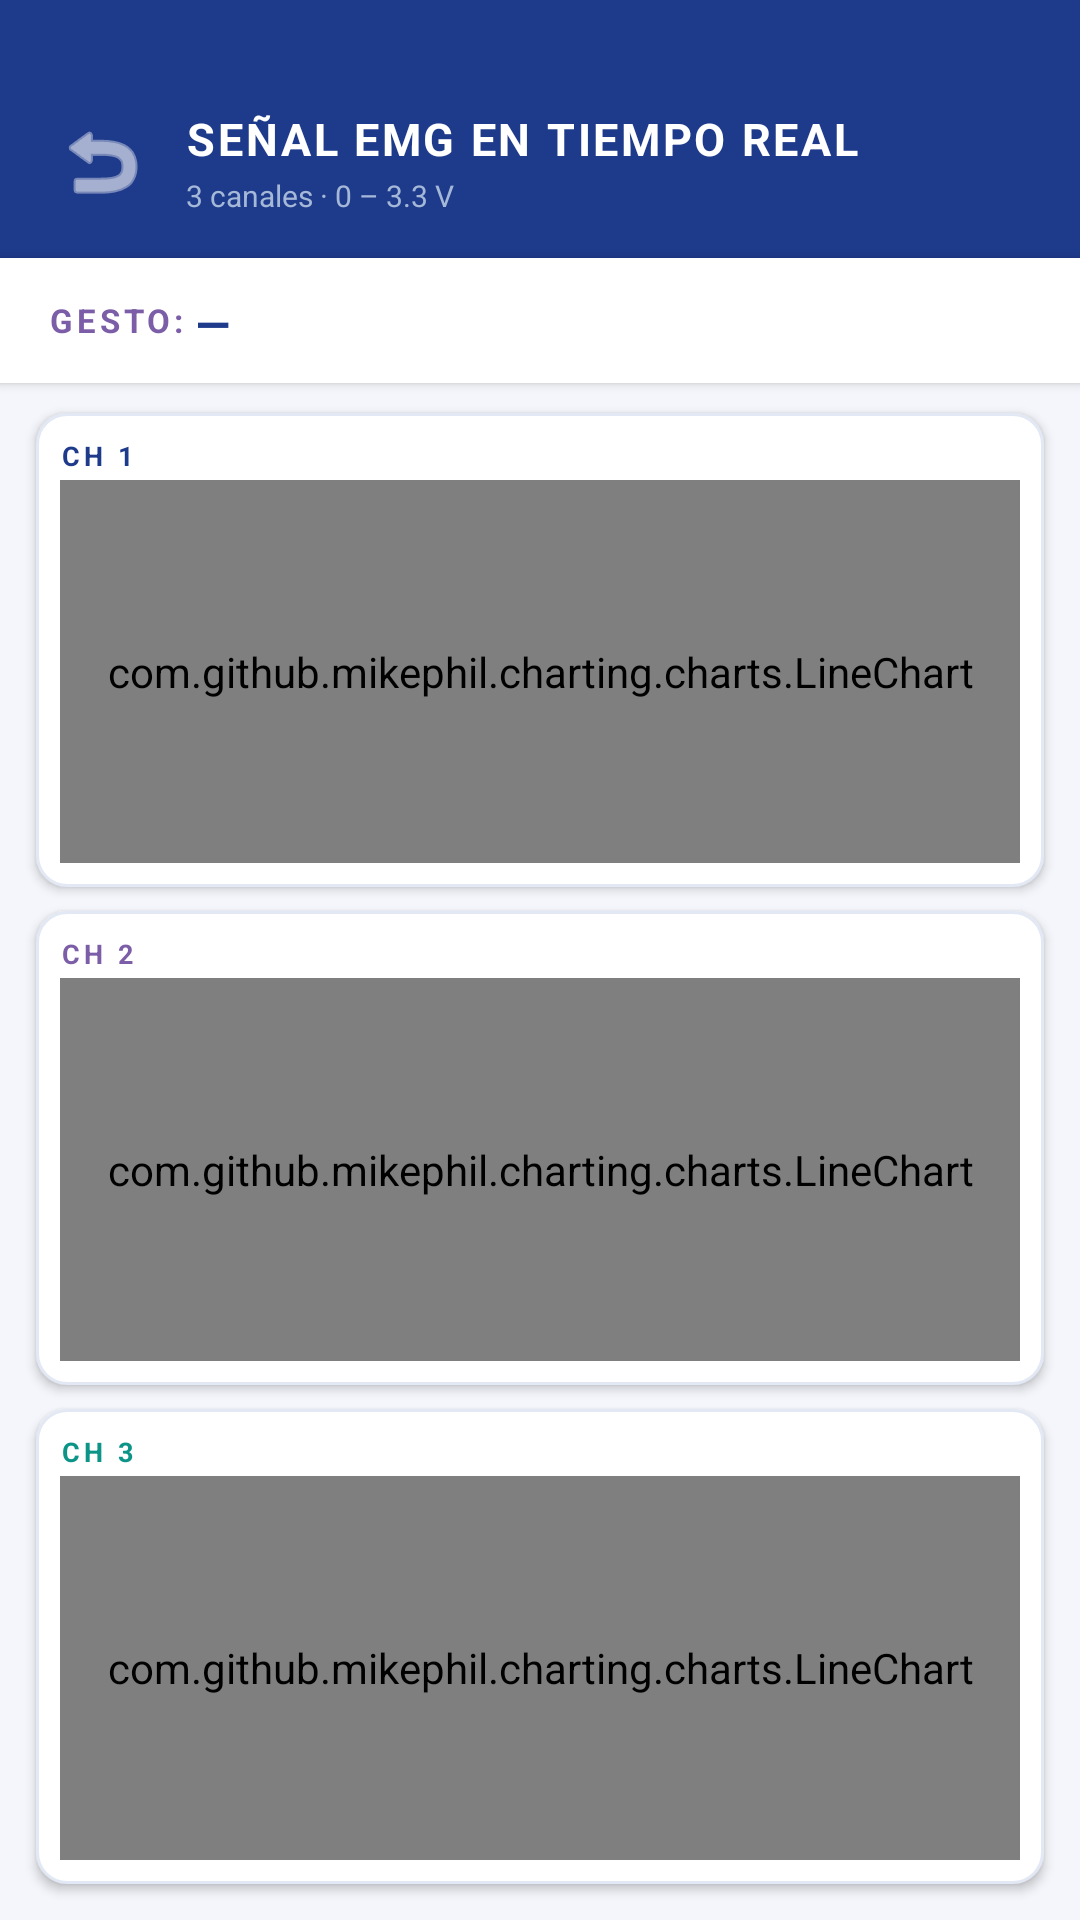

Where to tap for icons on this 1080x1920 app screen, as (x=x, y=y):
Volver: (x=103, y=162)
